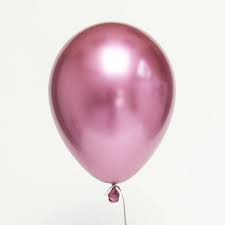Balloon: (48, 22, 175, 184)
